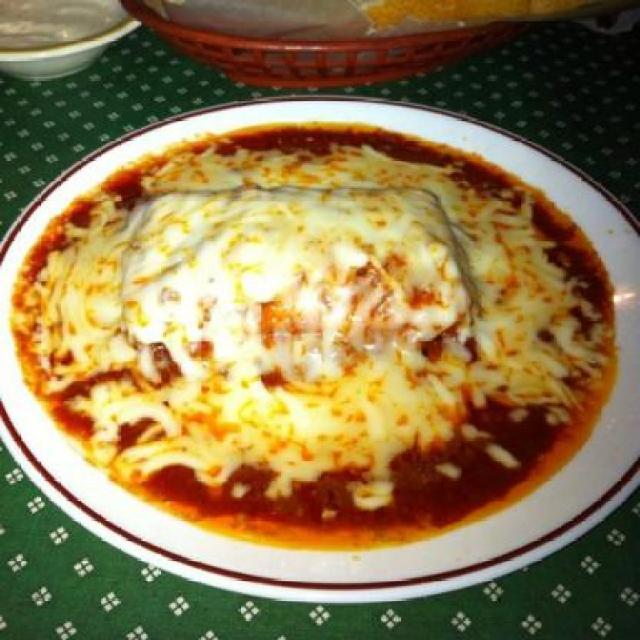Lasagna: (65, 160, 548, 480)
